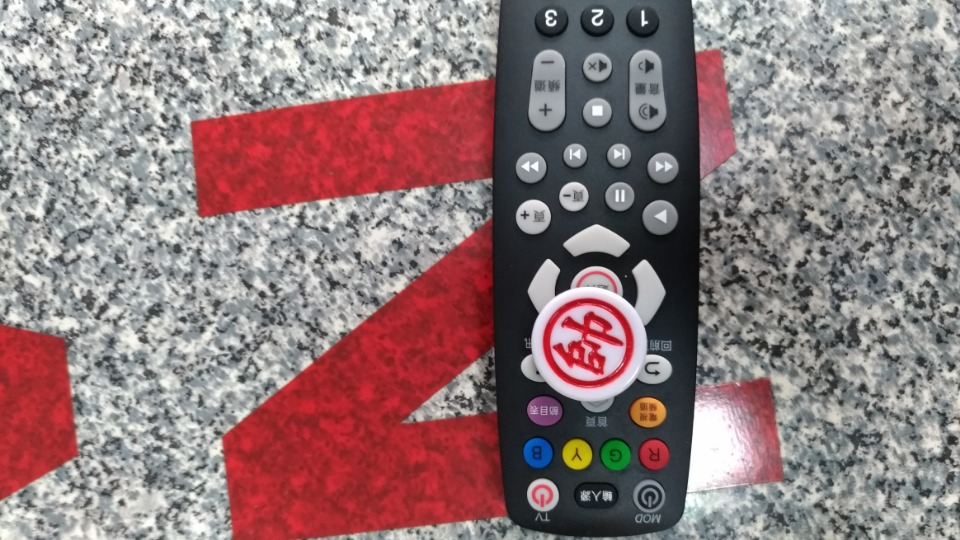r-king: (527, 285, 665, 404)
